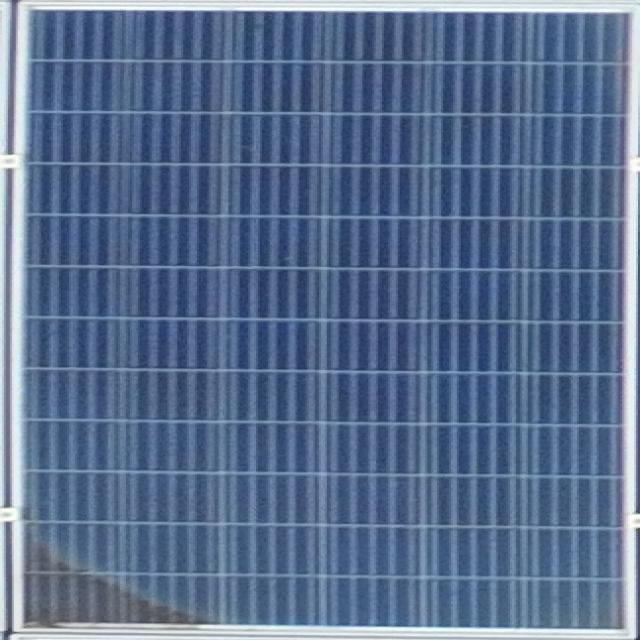Dust: (21, 513, 231, 638)
